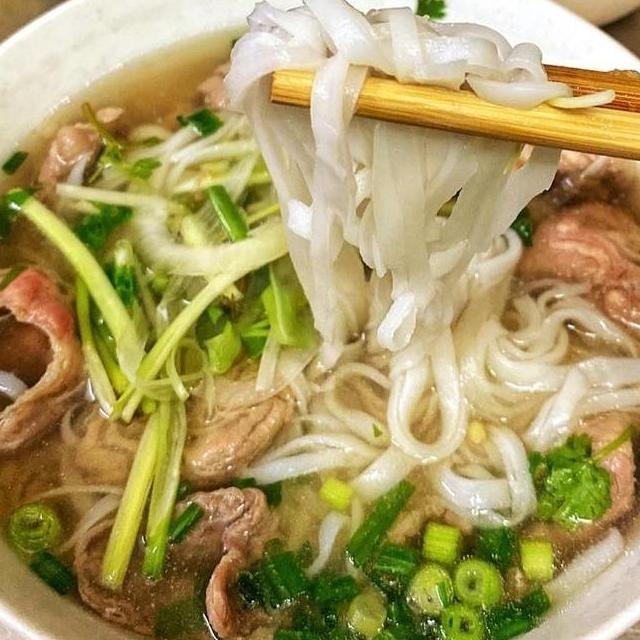banh pho: (209, 0, 582, 494), (226, 414, 543, 594), (498, 273, 640, 463)
pho bo: (0, 0, 640, 640)
thit bo: (51, 348, 305, 524), (68, 483, 306, 640), (494, 408, 638, 602), (508, 187, 640, 354), (169, 344, 304, 496), (0, 258, 95, 457), (14, 96, 130, 227)
